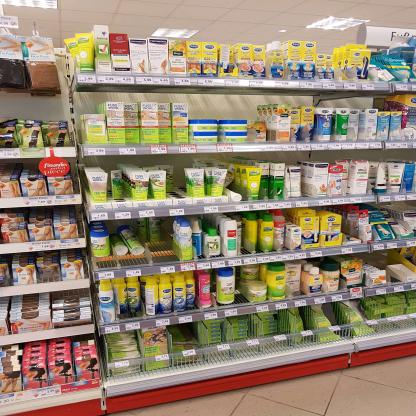Void: (188, 88, 257, 119), (146, 219, 178, 262), (174, 326, 199, 356), (168, 170, 185, 199)
